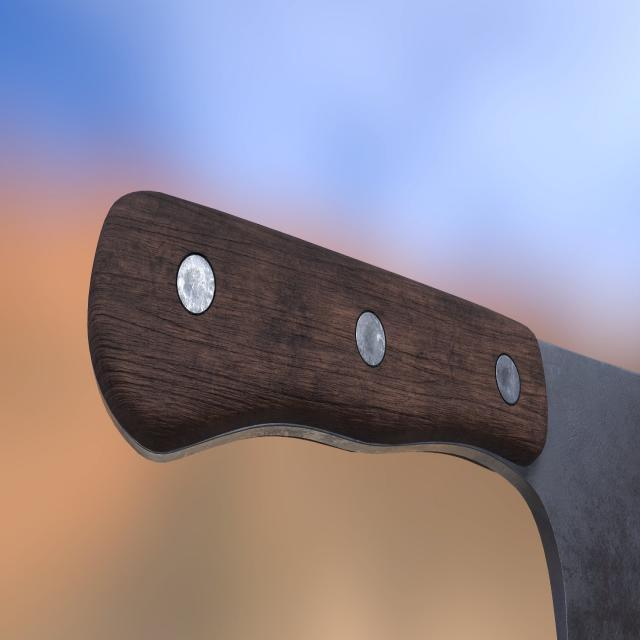cleaver: (90, 188, 640, 639)
